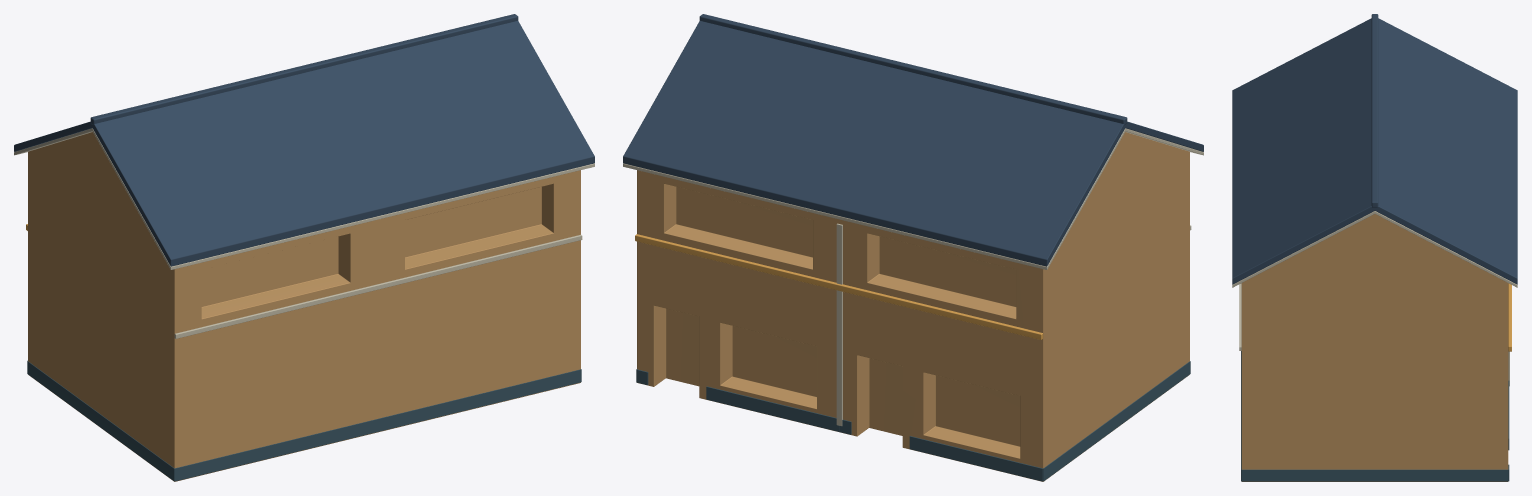
Rendered from d05_quay_frontages_02.glb.
3 views of the same model, side by side, from view 1: azimuth 30°, elevation 25°; view 2: azimuth 150°, elevation 25°; view 3: azimuth 270°, elevation 25° (orthographic). The views are drawn at different scales.
Parts seen in each view (by area): view 1: D05QuayFrontages02_Mesh; view 2: D05QuayFrontages02_Mesh; view 3: D05QuayFrontages02_Mesh.
Part boxes in pixels (x1=…): D05QuayFrontages02_Mesh: x1=14, y1=14, x2=594, y2=481; D05QuayFrontages02_Mesh: x1=623, y1=14, x2=1203, y2=481; D05QuayFrontages02_Mesh: x1=1232, y1=14, x2=1517, y2=481.
Size of the model in its own units: 13.38 by 9.4 by 8.56.
